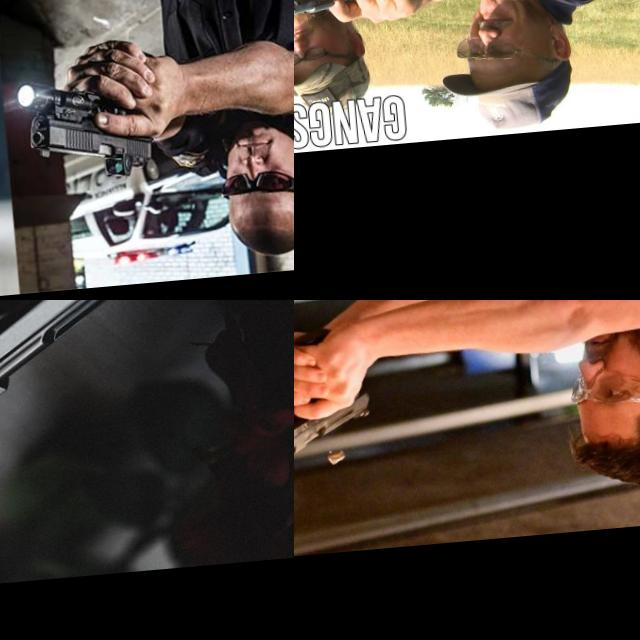handgun: (0, 300, 266, 483), (21, 82, 158, 188), (294, 388, 376, 486), (0, 135, 48, 214), (294, 6, 346, 43), (294, 0, 365, 24)
